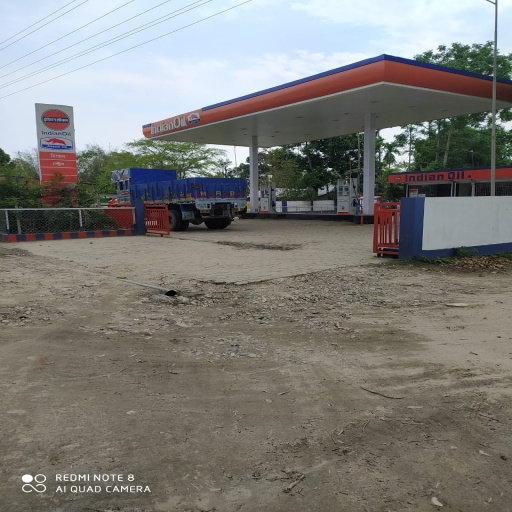roof: (141, 53, 510, 152)
